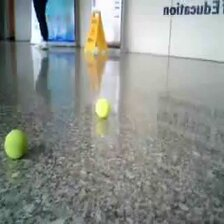tennis: (4, 130, 28, 159), (94, 98, 110, 119)
